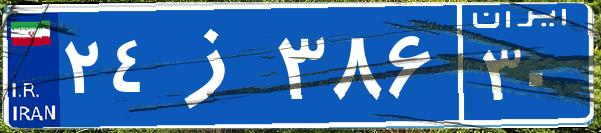0: (525, 38, 570, 115)
2: (57, 26, 110, 107)
3: (273, 28, 330, 110), (475, 38, 525, 113)
4: (110, 28, 158, 105)
6: (385, 28, 445, 110)
8: (330, 28, 385, 110)
ز: (158, 15, 273, 115)
